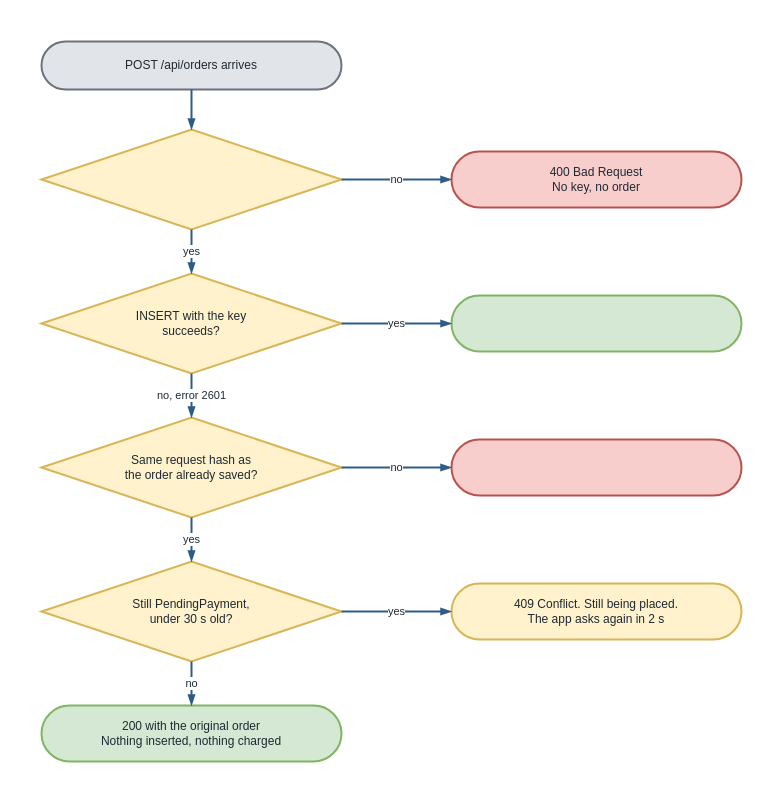
Image size: 782x802. Some labels were removed from this diagram. Each missing label, with the centre of its shape:
"422. The key was reused for a different cart" goes at pixel 596 467.
"Has an Idempotency-Key header?" goes at pixel 191 179.
"New order. Charge once with the same key. 201 Created" goes at pixel 596 323.
